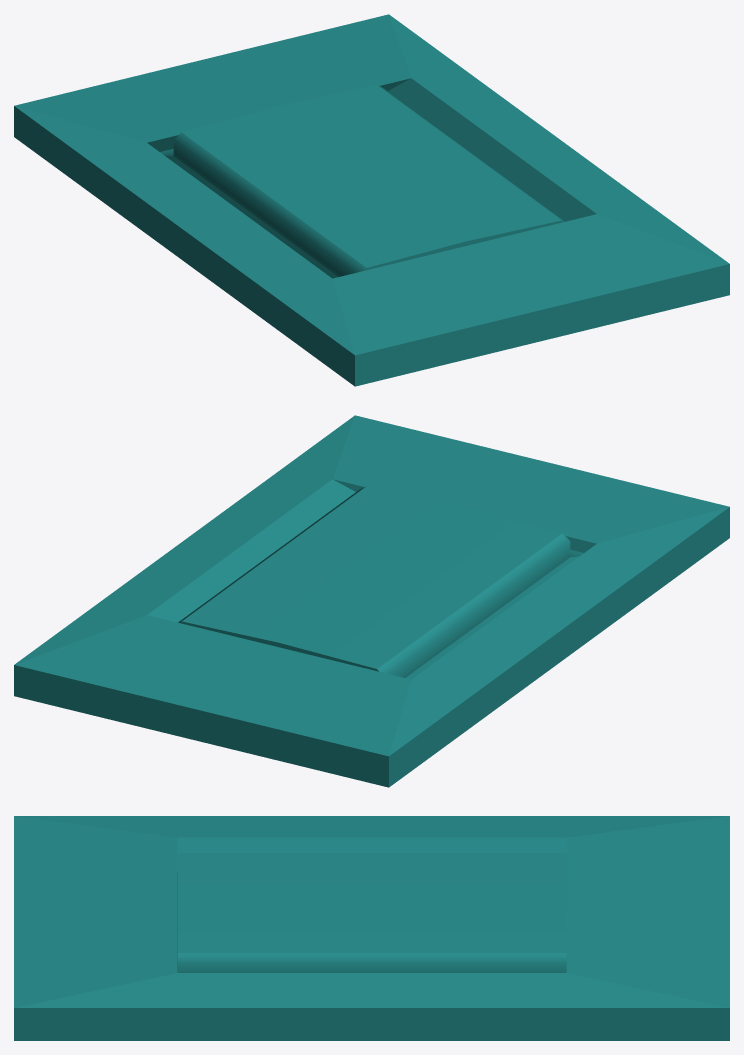
File: Enchufe.fbx
3 renders of one model, top to bottom at view 1: azimuth 30°, elevation 25°; view 2: azimuth 150°, elevation 25°; view 3: azimuth 270°, elevation 25°, orthographic. The views are drawn at different scales.
Parts seen in each view (by area): view 1: Enchufe; view 2: Enchufe; view 3: Enchufe.
Boxes of the visible parts, box(x1,y1,x2,y2) form: Enchufe: box(14, 14, 729, 386); Enchufe: box(14, 415, 729, 787); Enchufe: box(14, 816, 729, 1040).
Bounding box in the file's own units: 0.075 × 0.00806 × 0.1181.
